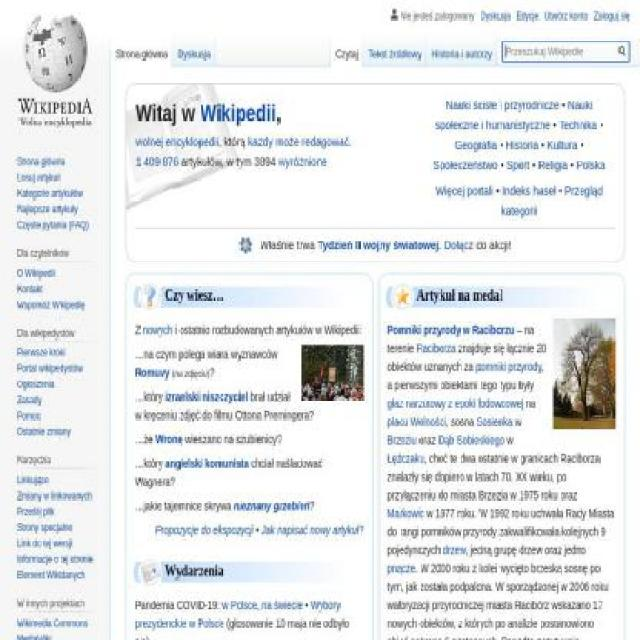button: (425, 33, 498, 67), (363, 33, 428, 67), (110, 33, 173, 67), (172, 33, 215, 67), (330, 33, 364, 67)
field: (502, 40, 630, 63), (614, 41, 629, 62)
